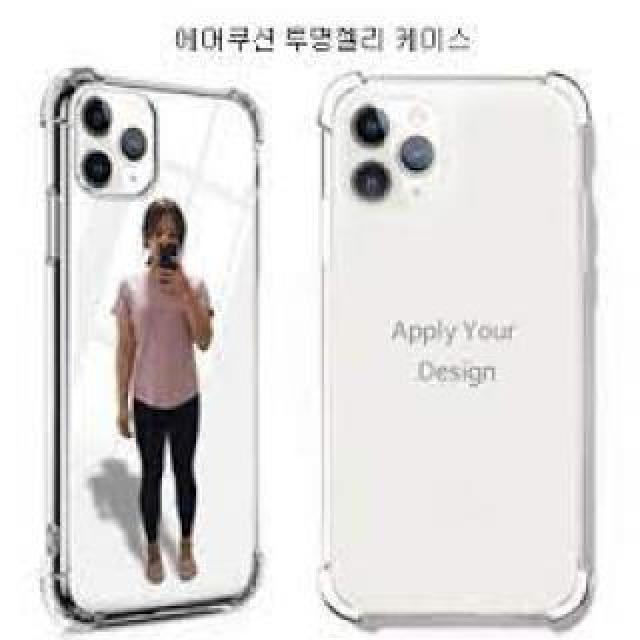smart phone: (312, 55, 616, 623), (33, 54, 285, 614)
